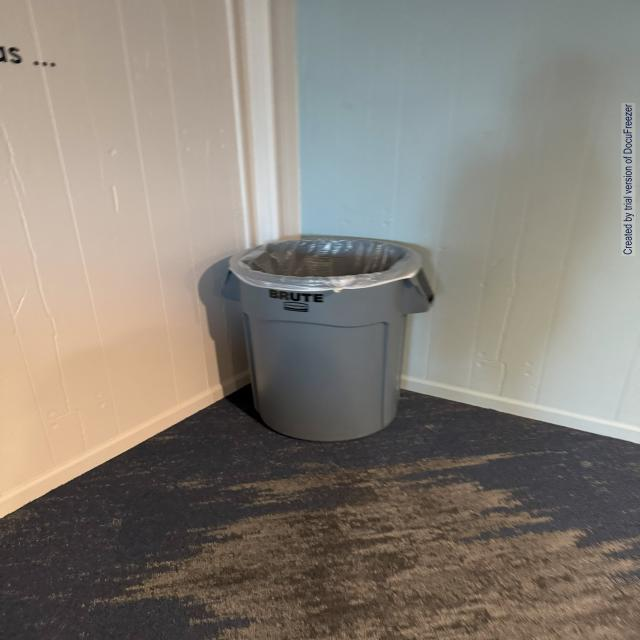Trash bin: (211, 221, 447, 465)
